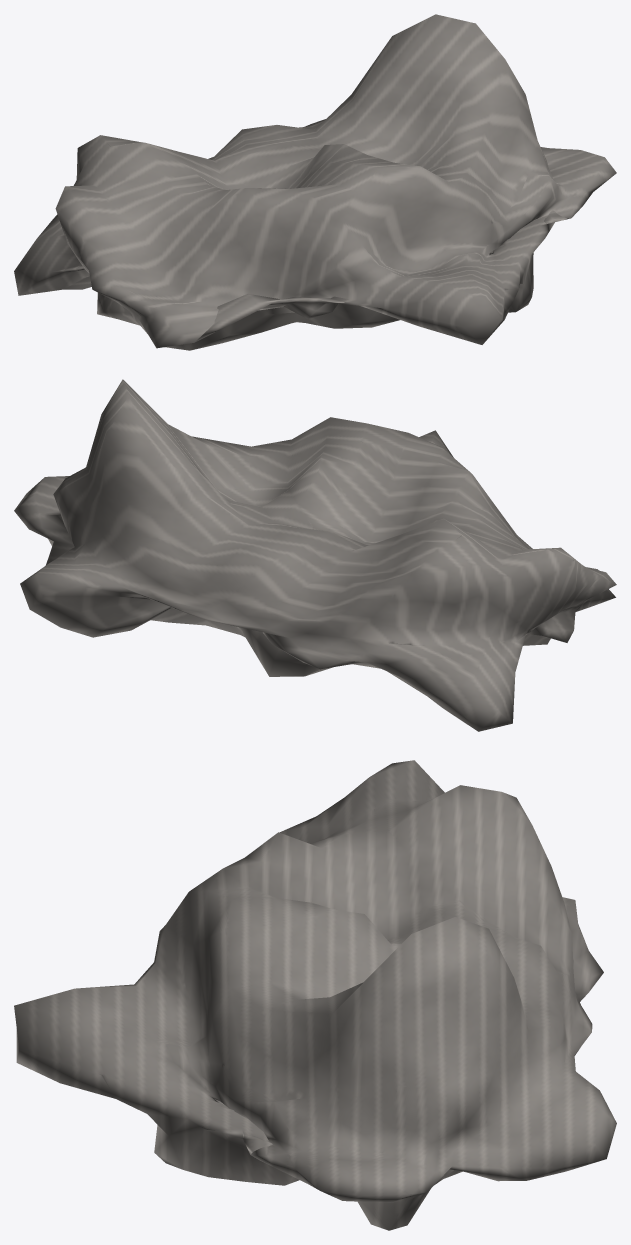
File: cairn_pile_base.glb
The picture shows the model from 3 angles, top to bottom: view 1: azimuth 30°, elevation 25°; view 2: azimuth 150°, elevation 25°; view 3: azimuth 270°, elevation 25°; orthographic projection. The views are drawn at different scales.
Visible parts, largest first — view 1: cairn_pile_base; view 2: cairn_pile_base; view 3: cairn_pile_base.
Part boxes in pixels (bbox=[...]): cairn_pile_base: bbox=[14, 14, 616, 350]; cairn_pile_base: bbox=[14, 379, 616, 731]; cairn_pile_base: bbox=[14, 760, 616, 1230].
Size of the model in its own units: 3 by 1.07 by 2.27.
Materials: 1 (1 with a texture image).
